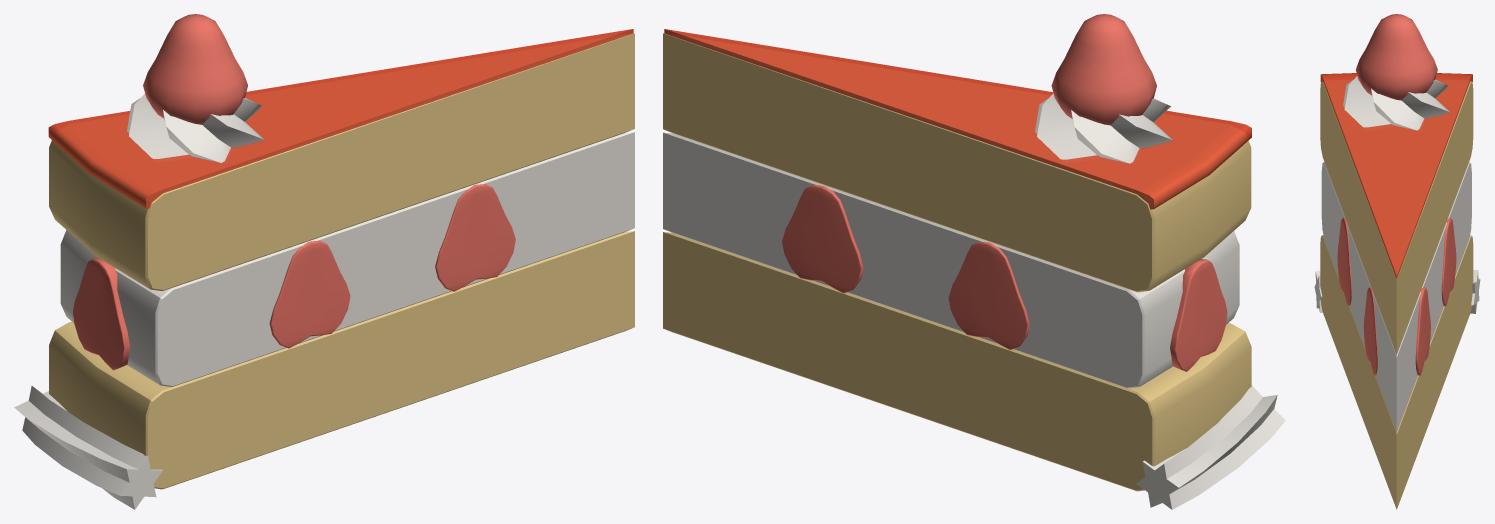
Rendered from cake_slice_UVed.fbx.
3 renders of one model, left to right at view 1: azimuth 30°, elevation 25°; view 2: azimuth 150°, elevation 25°; view 3: azimuth 270°, elevation 25°, orthographic. The views are drawn at different scales.
Visible parts, largest first — view 1: pCylinder13, pCylinder15, pCylinder14, pCylinder23, Strawberry1, pCylinder24, Halved_Strawberry5, Halved_Strawberry6, pCylinder16, Halved_Strawberry1; view 2: pCylinder13, pCylinder15, pCylinder14, pCylinder23, Strawberry1, pCylinder24, Halved_Strawberry4, Halved_Strawberry2, pCylinder16, Halved_Strawberry1; view 3: pCylinder15, pCylinder13, pCylinder23, pCylinder14, Strawberry1, pCylinder16, Halved_Strawberry4, Halved_Strawberry2, Halved_Strawberry5, Halved_Strawberry6, pCylinder24.
Part boxes in pixels (x1=…): pCylinder13: x1=49, y1=231, x2=634, y2=489; pCylinder15: x1=49, y1=33, x2=634, y2=291; pCylinder14: x1=60, y1=132, x2=634, y2=386; pCylinder23: x1=48, y1=29, x2=633, y2=208; Strawberry1: x1=143, y1=14, x2=247, y2=124; pCylinder24: x1=14, y1=386, x2=162, y2=509; Halved_Strawberry5: x1=269, y1=240, x2=350, y2=348; Halved_Strawberry6: x1=435, y1=184, x2=515, y2=291; pCylinder16: x1=127, y1=93, x2=264, y2=162; Halved_Strawberry1: x1=73, y1=258, x2=129, y2=370; pCylinder13: x1=663, y1=232, x2=1251, y2=491; pCylinder15: x1=663, y1=33, x2=1251, y2=292; pCylinder14: x1=663, y1=132, x2=1239, y2=388; pCylinder23: x1=664, y1=29, x2=1251, y2=209; Strawberry1: x1=1051, y1=14, x2=1156, y2=125; pCylinder24: x1=1136, y1=385, x2=1285, y2=509; Halved_Strawberry4: x1=782, y1=184, x2=863, y2=293; Halved_Strawberry2: x1=948, y1=241, x2=1029, y2=350; pCylinder16: x1=1035, y1=93, x2=1173, y2=163; Halved_Strawberry1: x1=1170, y1=259, x2=1227, y2=371; pCylinder15: x1=1320, y1=81, x2=1473, y2=354; pCylinder13: x1=1320, y1=235, x2=1473, y2=509; pCylinder23: x1=1320, y1=73, x2=1472, y2=279; pCylinder14: x1=1321, y1=162, x2=1471, y2=431; Strawberry1: x1=1356, y1=14, x2=1437, y2=100; pCylinder16: x1=1343, y1=76, x2=1450, y2=130; Halved_Strawberry4: x1=1415, y1=287, x2=1430, y2=375; Halved_Strawberry2: x1=1441, y1=217, x2=1456, y2=306; Halved_Strawberry5: x1=1337, y1=217, x2=1351, y2=306; Halved_Strawberry6: x1=1363, y1=287, x2=1377, y2=375; pCylinder24: x1=1314, y1=270, x2=1480, y2=313.
Size of the model in its own units: 12.1 by 8.67 by 3.89.
